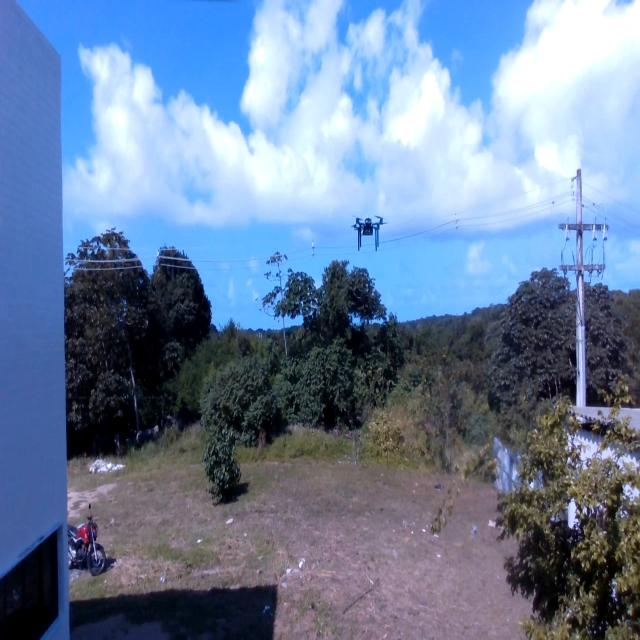-uav-: (344, 203, 389, 258)
